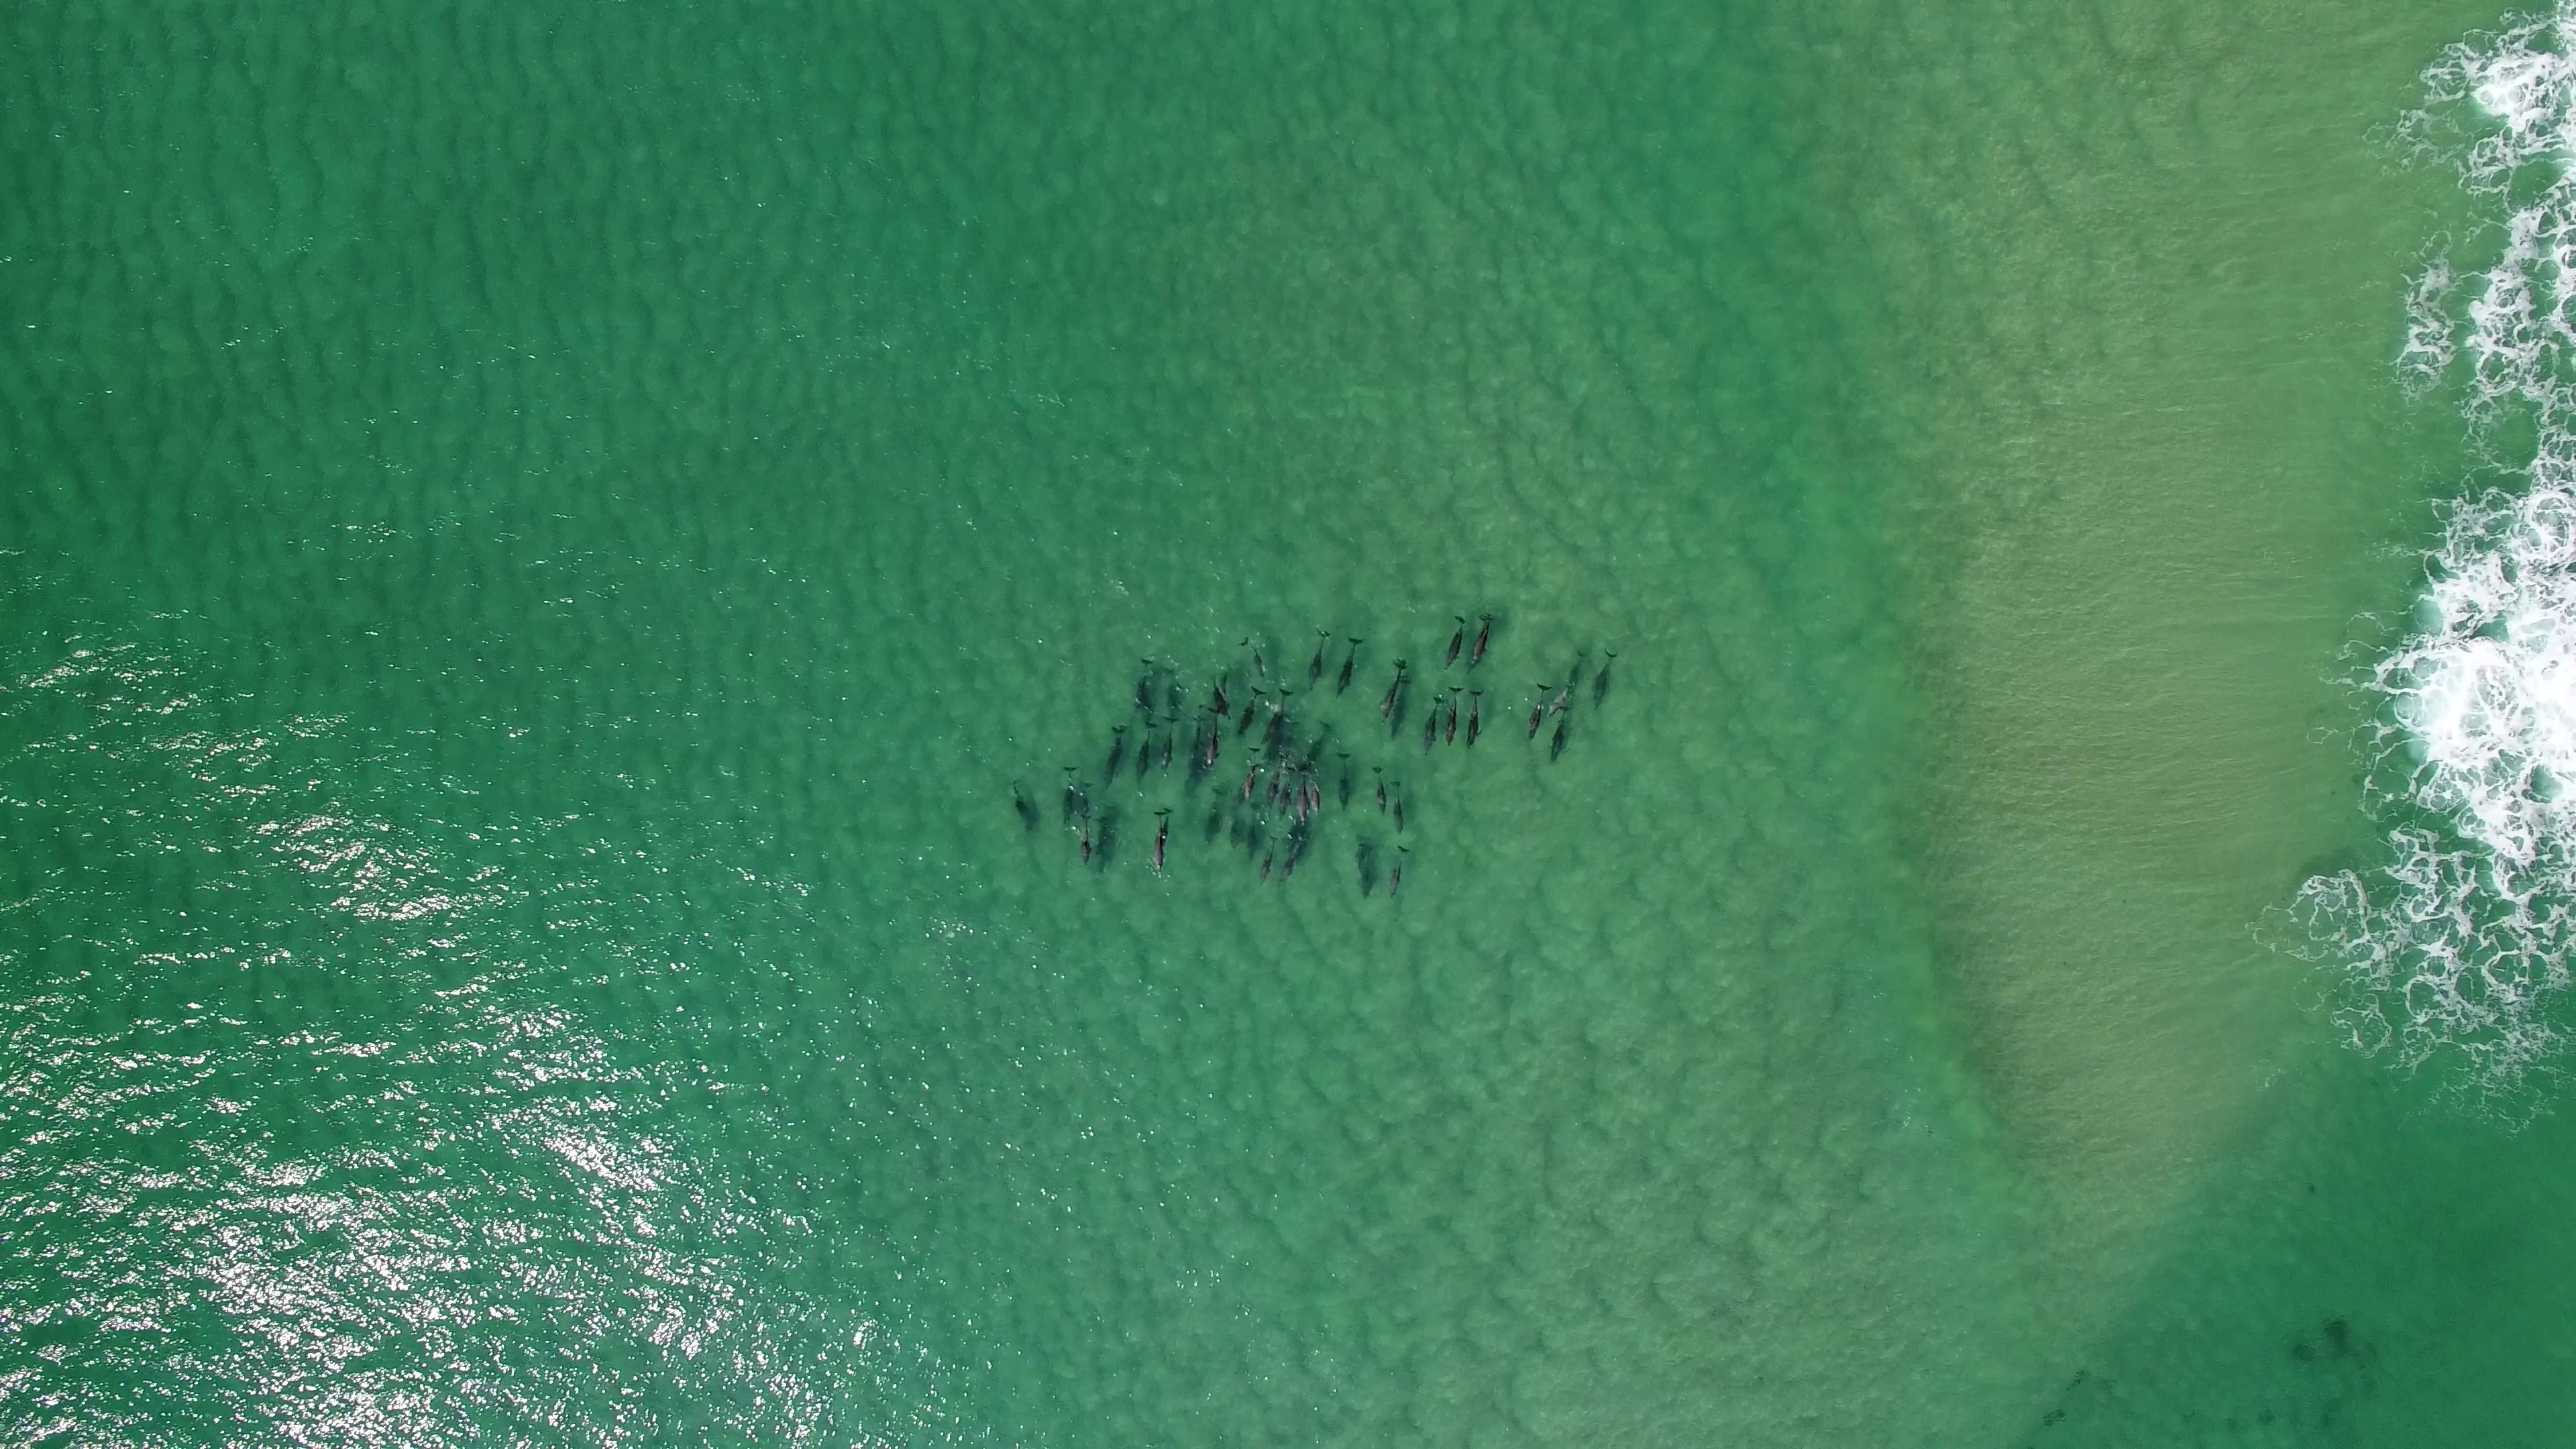dolphin: (1258, 688, 1299, 763), (1546, 648, 1585, 715), (1376, 656, 1410, 725), (1334, 635, 1366, 699), (1005, 778, 1040, 835), (1233, 685, 1265, 741), (1306, 626, 1332, 694), (1132, 722, 1159, 789), (1468, 610, 1497, 672), (1200, 786, 1228, 847), (1102, 722, 1127, 793), (1591, 648, 1617, 713), (1546, 704, 1573, 770), (1442, 610, 1468, 676), (1274, 835, 1307, 886), (1387, 671, 1412, 738), (1525, 678, 1550, 743), (1421, 694, 1445, 757), (1442, 683, 1465, 750), (1203, 704, 1224, 777), (1238, 635, 1274, 678), (1463, 683, 1484, 752), (1304, 718, 1332, 770), (1131, 655, 1154, 717), (1389, 840, 1412, 901), (1253, 835, 1279, 886), (1263, 754, 1288, 809), (1334, 750, 1355, 812), (1150, 809, 1168, 883), (1189, 706, 1205, 784), (1062, 763, 1079, 832), (1240, 745, 1261, 801), (1207, 671, 1233, 715), (1389, 778, 1408, 839), (1159, 713, 1177, 778), (1368, 763, 1389, 816), (1292, 770, 1311, 824), (1277, 766, 1297, 819), (1154, 805, 1173, 858), (1307, 770, 1325, 816), (1079, 812, 1092, 874)
